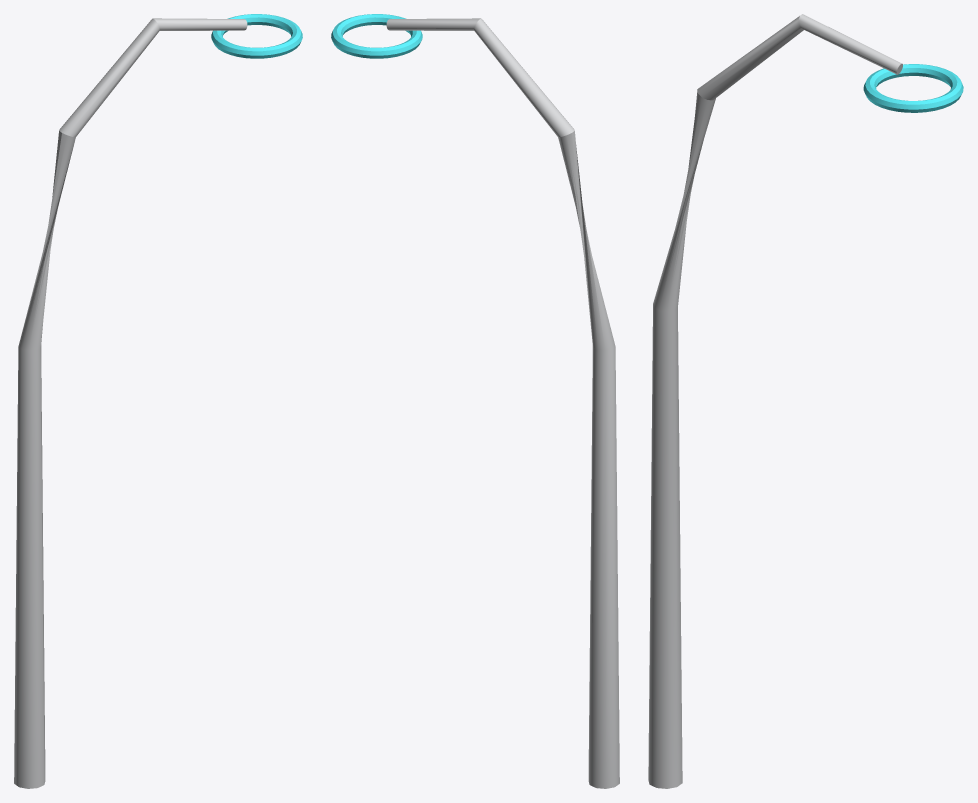
Rendered from SM_FutureStreetLight.fbx.
3 views of the same model, side by side, from view 1: azimuth 30°, elevation 25°; view 2: azimuth 150°, elevation 25°; view 3: azimuth 330°, elevation 25° (orthographic). The views are drawn at different scales.
Parts seen in each view (by area): view 1: SM_FutureStreetLight; view 2: SM_FutureStreetLight; view 3: SM_FutureStreetLight.
Boxes of the visible parts, x1,y1,x2,y2 form: SM_FutureStreetLight: (14,14,302,788); SM_FutureStreetLight: (331,14,619,788); SM_FutureStreetLight: (648,14,963,788).
Size of the model in its own units: 444 by 1109 by 126.
